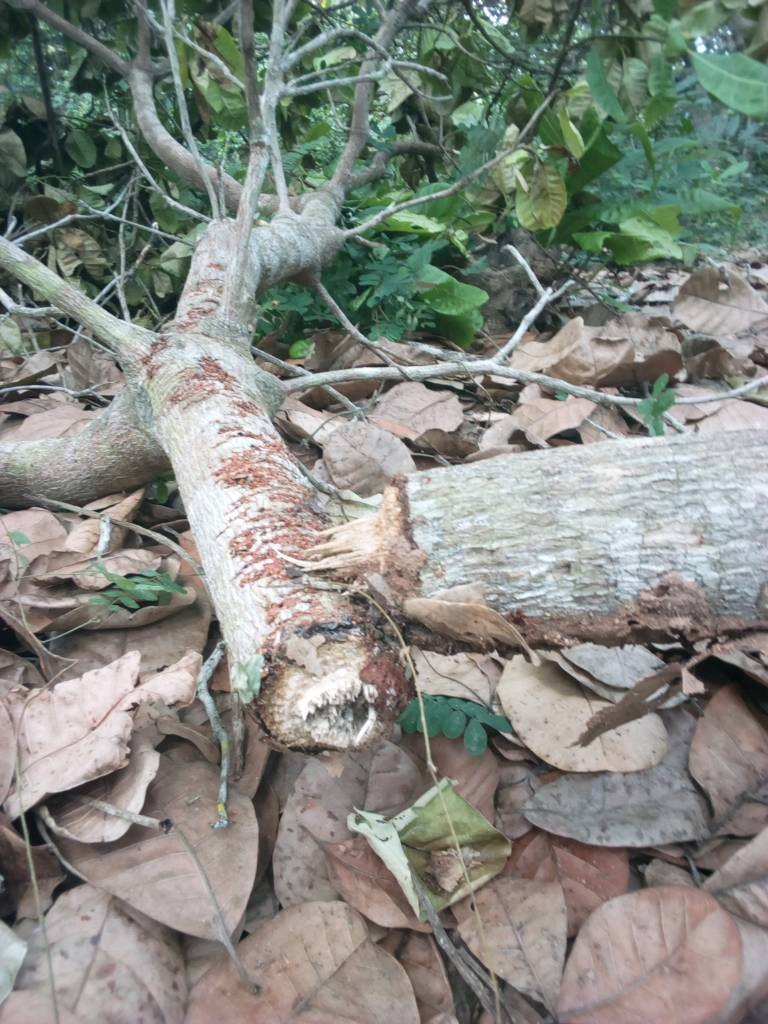Analepse trifasciata: (229, 600, 422, 767)
